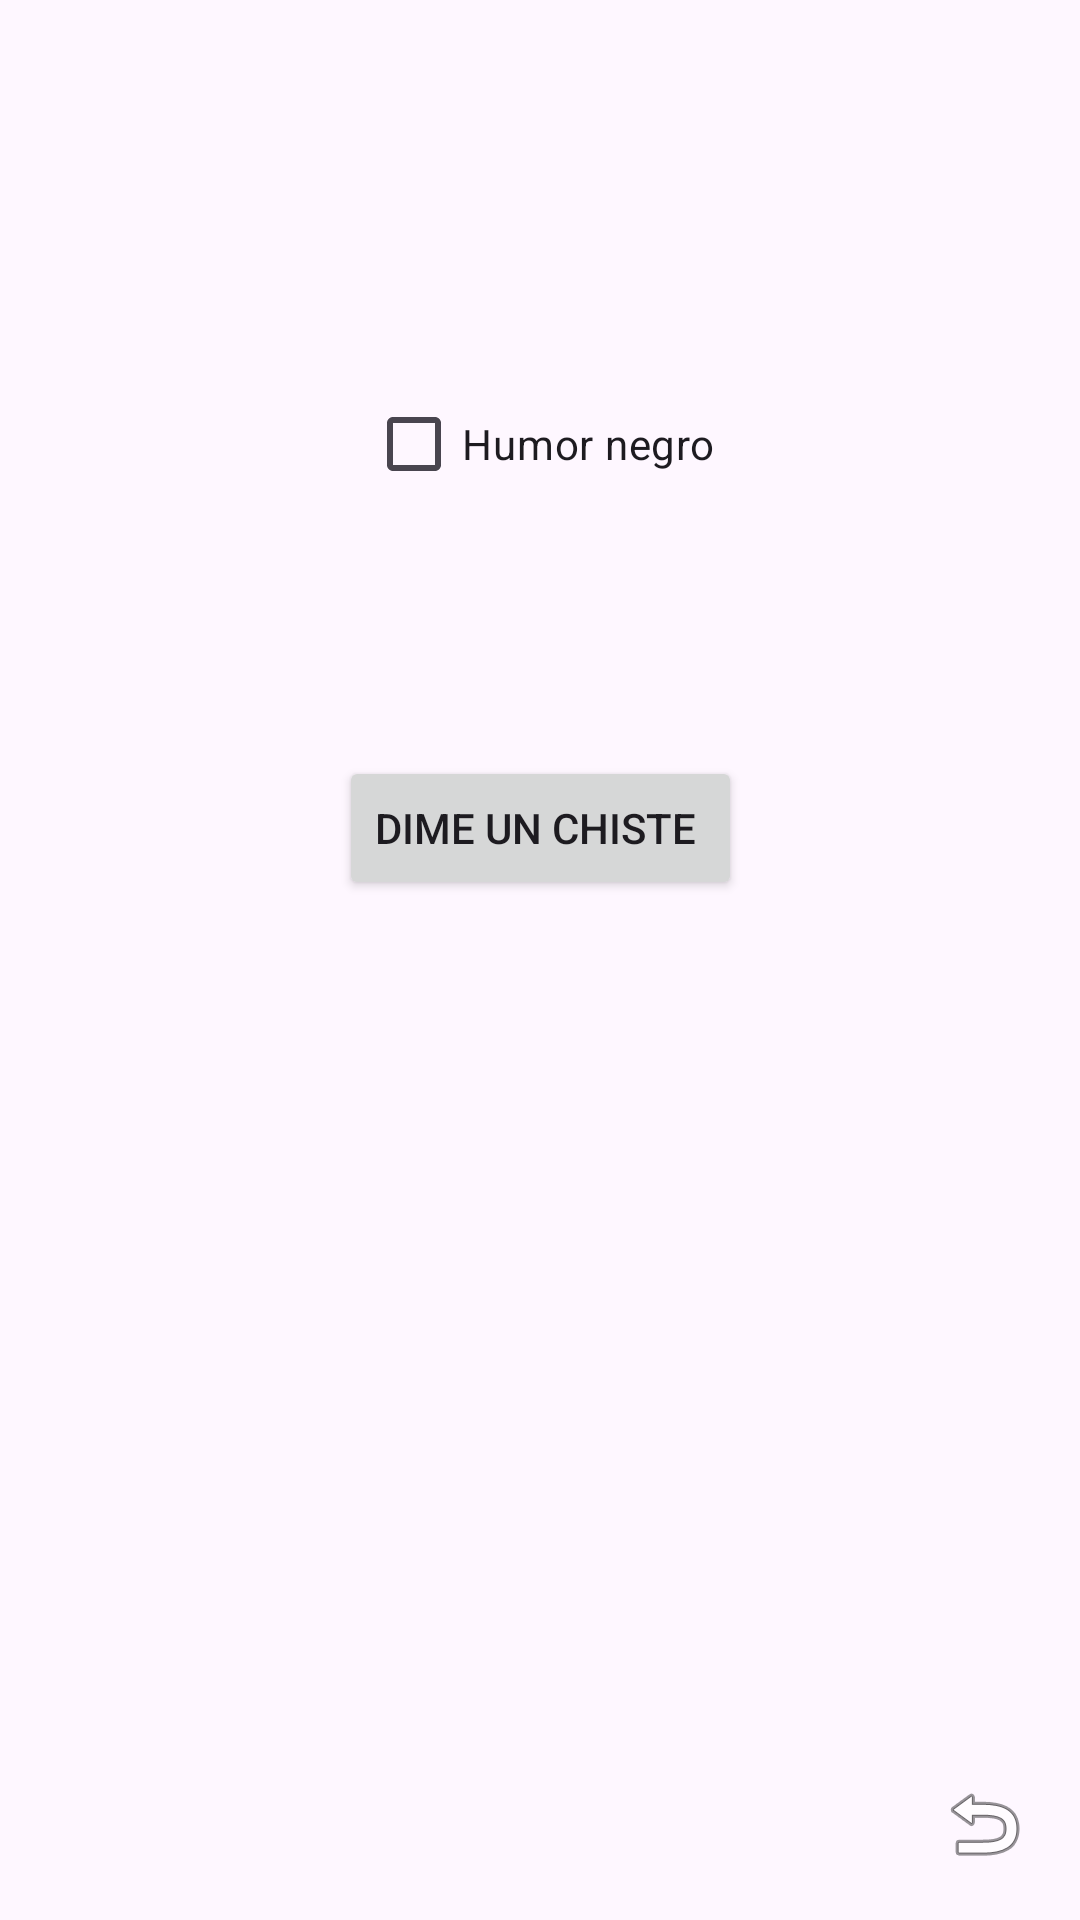

Icon click points for this 1080x1920 phone screenshot, format point (x, y):
revert: point (985, 1824)
